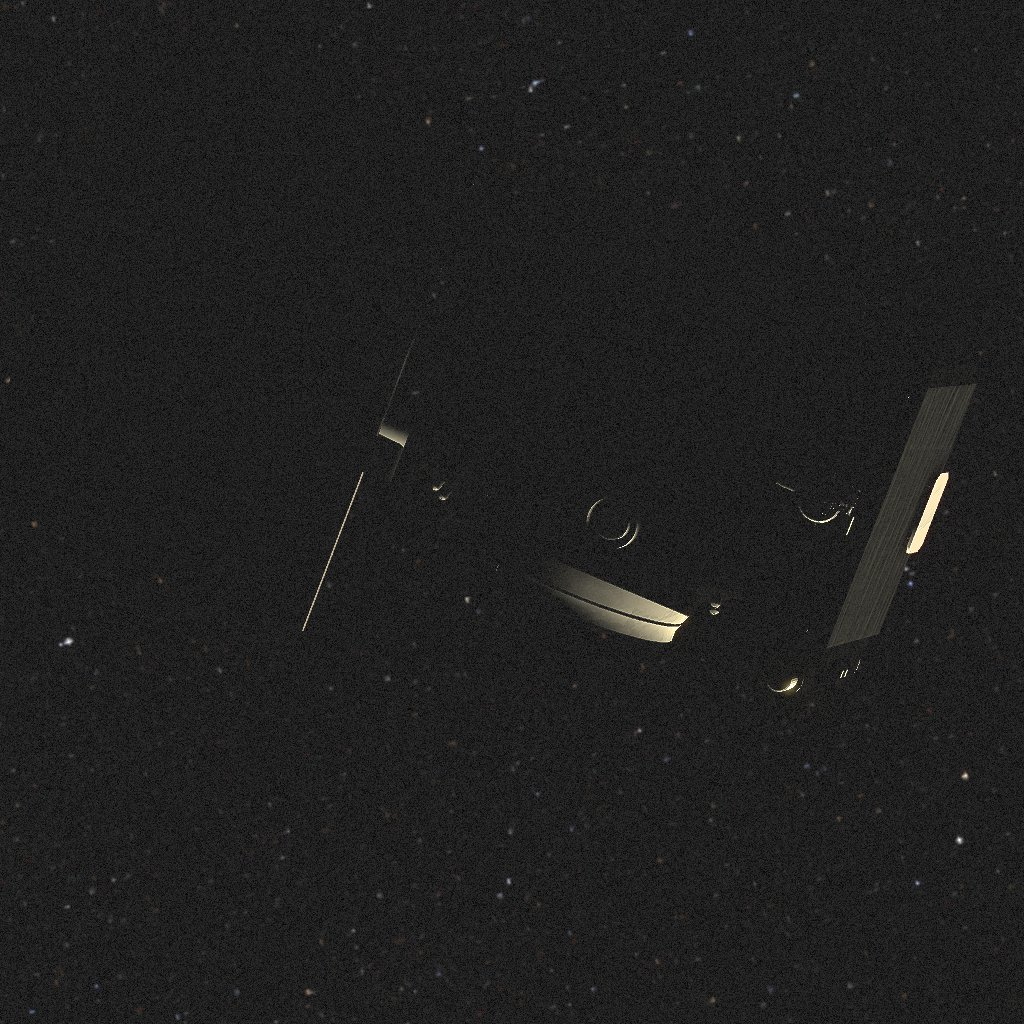proba_3_csc: (0, 17, 983, 700)
